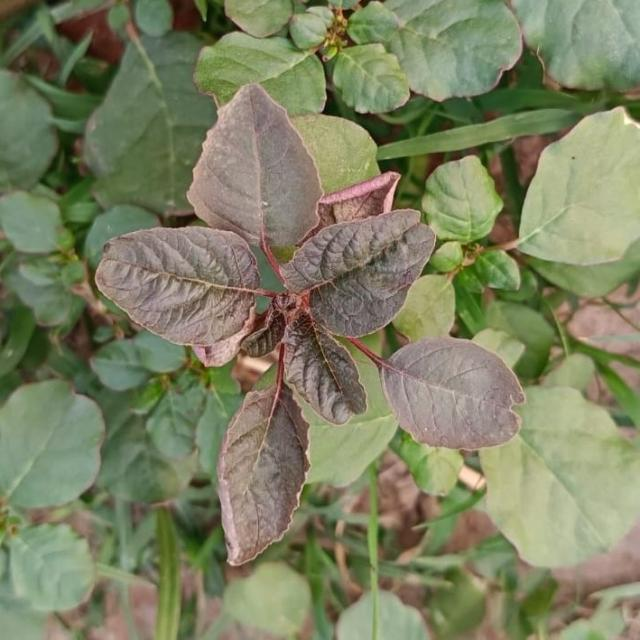plant: (96, 84, 524, 565)
